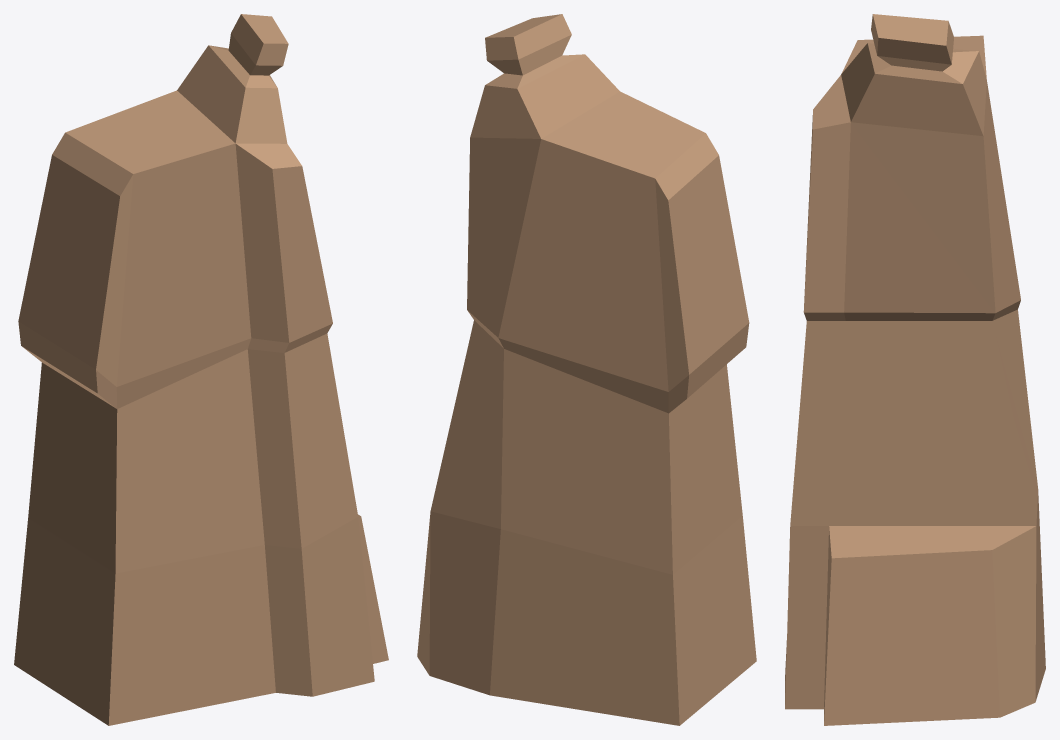
Rendered from big_rock_4.fbx.
The picture shows the model from 3 angles, left to right: view 1: azimuth 30°, elevation 25°; view 2: azimuth 150°, elevation 25°; view 3: azimuth 270°, elevation 25°; orthographic projection. The views are drawn at different scales.
Parts seen in each view (by area): view 1: Cube.008; view 2: Cube.008; view 3: Cube.008.
Part boxes in pixels (box(x1,y1,x2,y2)): Cube.008: box(14, 14, 388, 725); Cube.008: box(417, 14, 756, 725); Cube.008: box(785, 14, 1045, 725).
Size of the model in its own units: 0.5215 by 1.08 by 0.3867.
